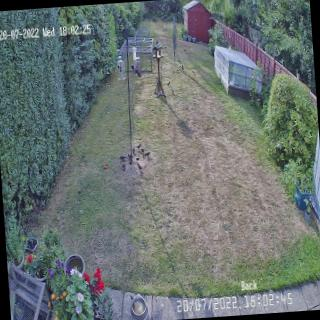bird: (136, 160, 142, 172), (144, 151, 151, 159), (136, 141, 142, 150), (120, 162, 126, 171), (118, 154, 125, 161), (140, 146, 146, 154), (127, 152, 132, 160), (128, 160, 132, 168), (131, 146, 135, 154)
